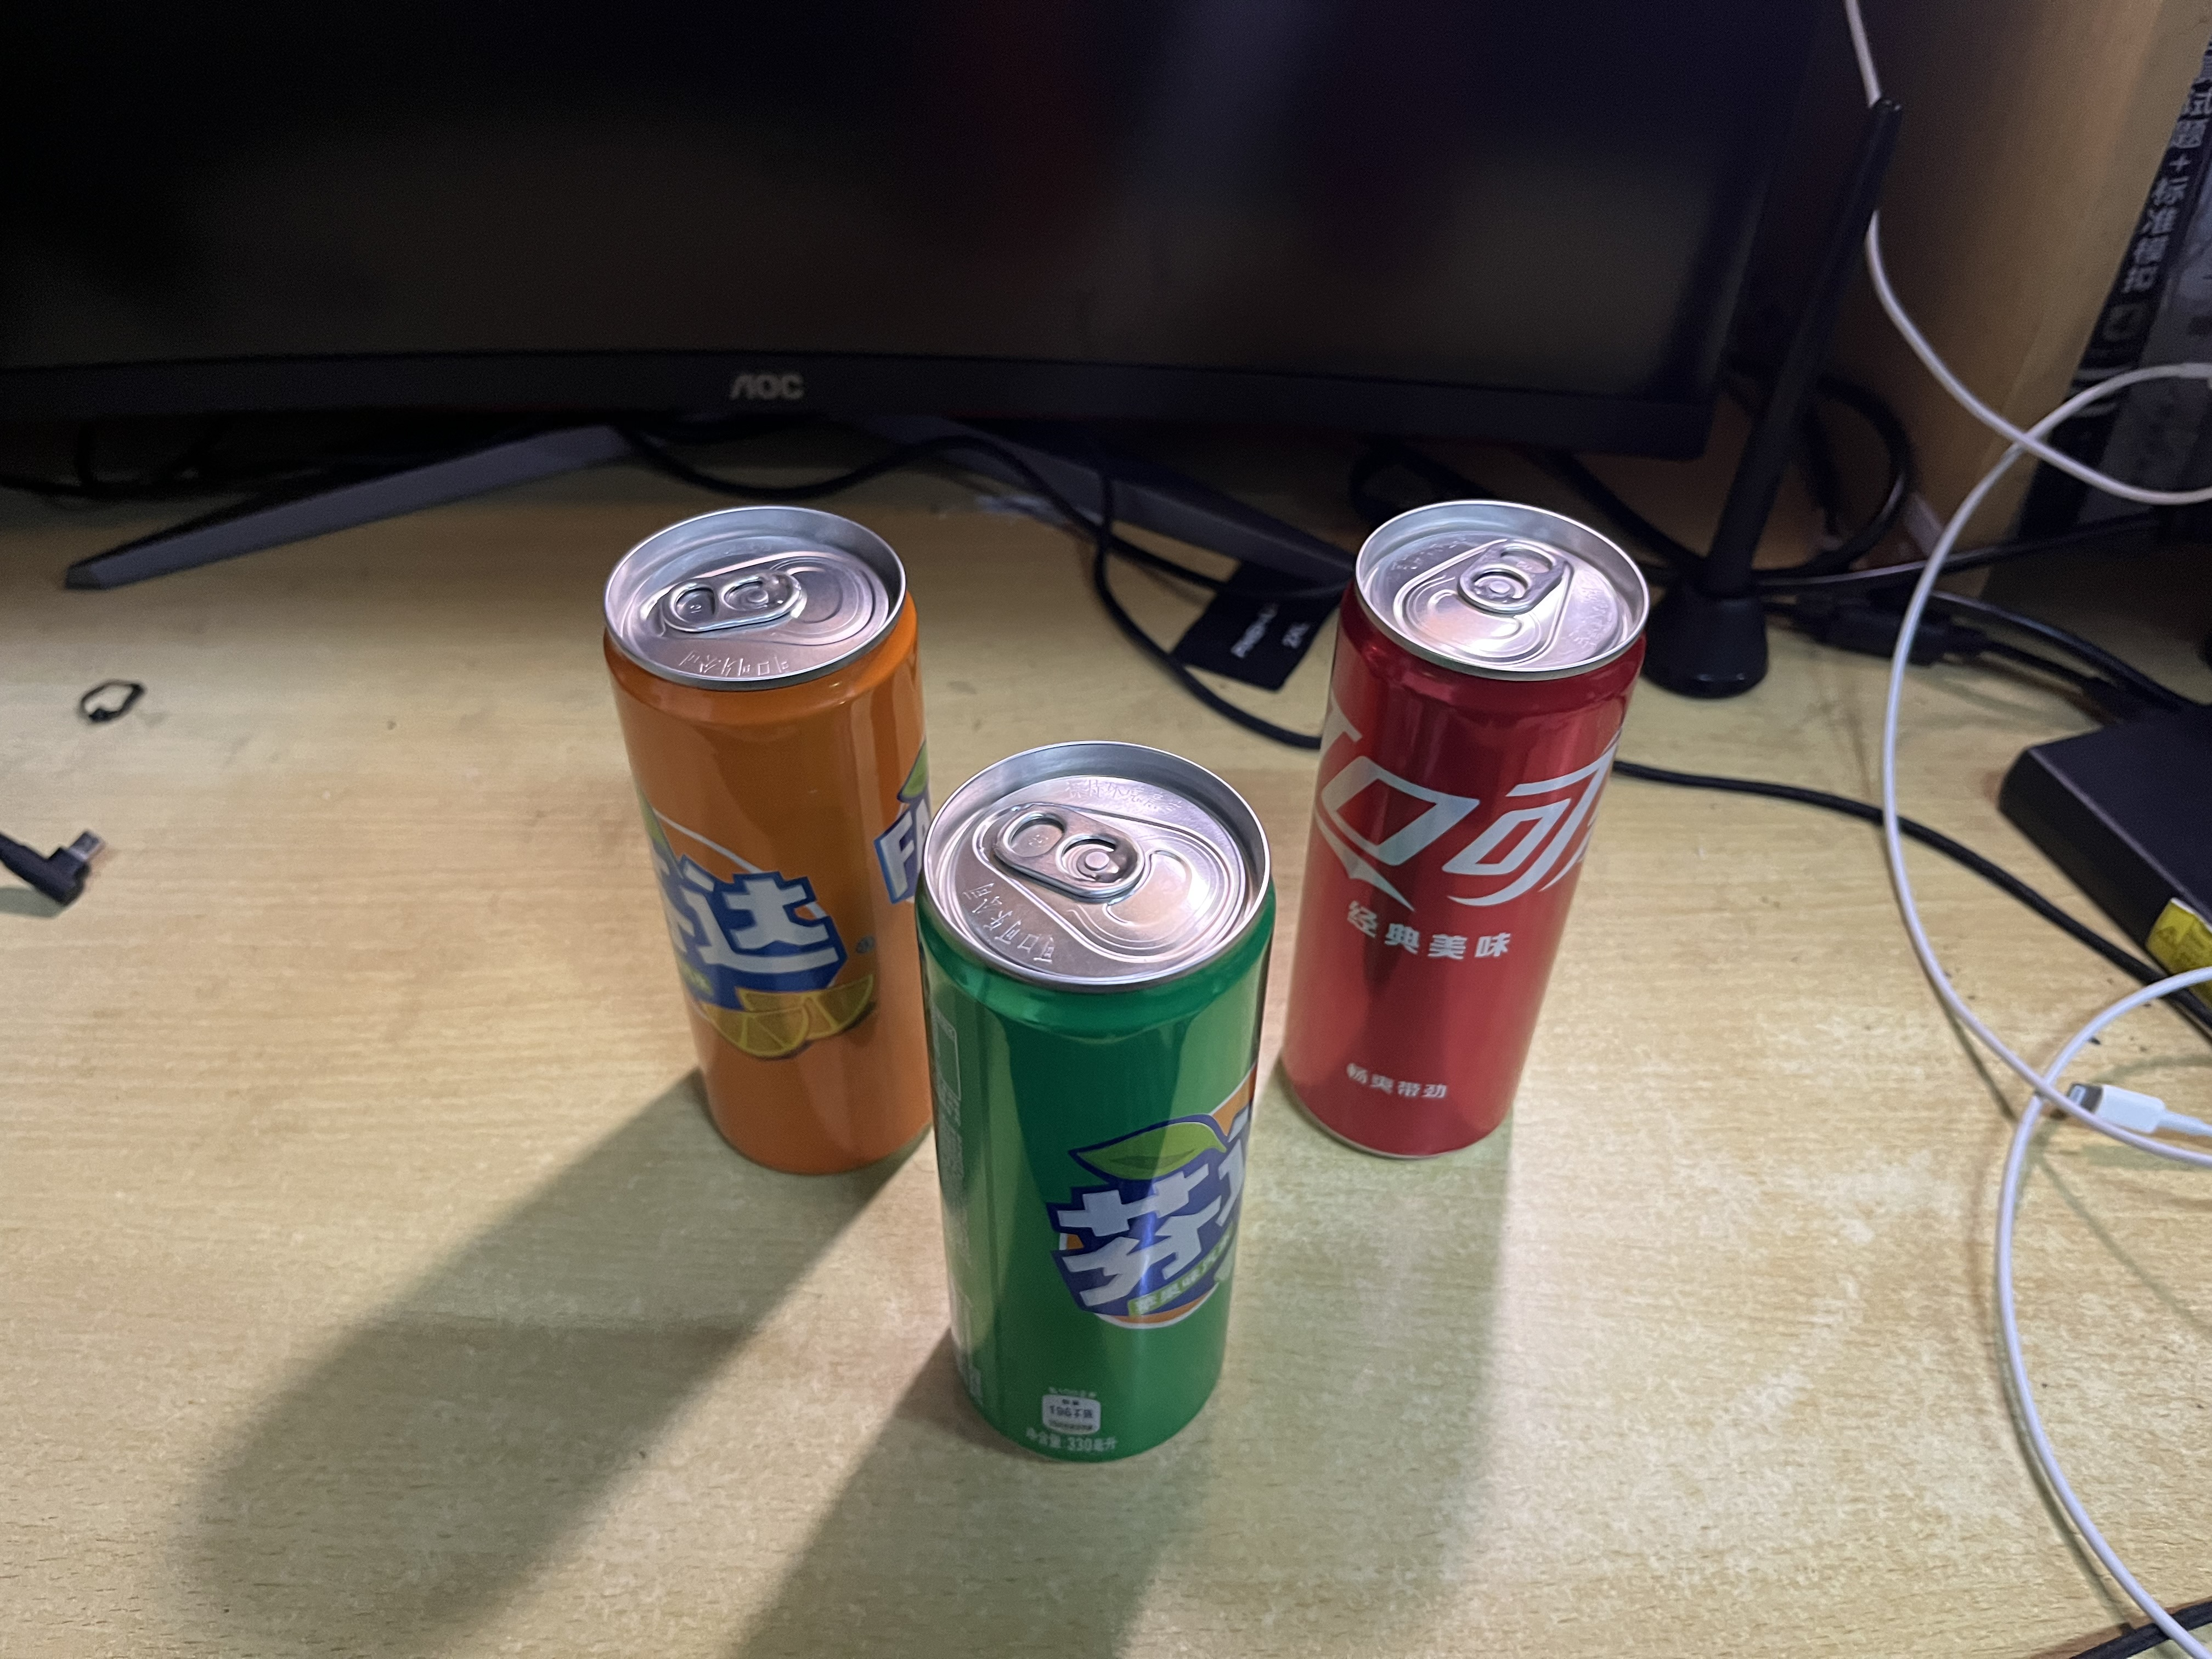CocaCola: (1278, 498, 1646, 1154)
FANTA_Apple: (916, 742, 1275, 1466)
FANTA_Orange: (603, 507, 935, 1176)
